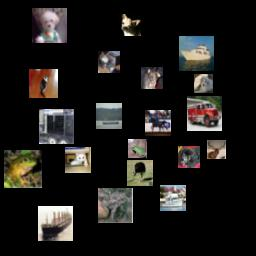bird: (127, 160, 153, 186)
cat: (29, 69, 58, 98), (65, 147, 91, 173), (98, 51, 120, 73)
deer: (207, 140, 226, 159)
dog: (32, 8, 67, 43), (141, 67, 163, 89), (119, 14, 141, 36), (178, 146, 200, 168), (194, 74, 213, 93)
frog: (4, 150, 42, 188), (98, 188, 133, 223), (128, 139, 147, 158)
ship: (38, 206, 73, 241), (179, 36, 214, 71), (160, 185, 186, 211), (96, 103, 122, 129)
truck: (187, 96, 222, 131), (39, 109, 74, 144)
